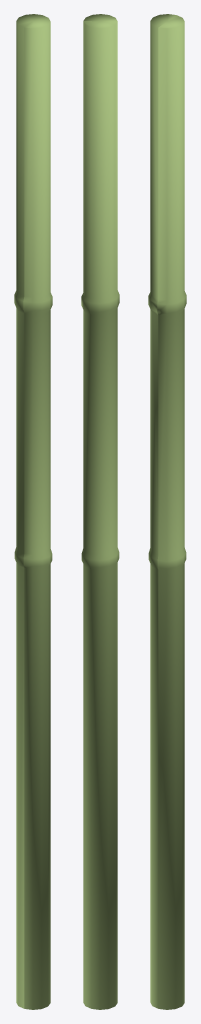
The model's file is Zen_Staff.fbx.
3 renders of one model, left to right at view 1: azimuth 90°, elevation 25°; view 2: azimuth 210°, elevation 25°; view 3: azimuth 270°, elevation 25°, orthographic.
Parts seen in each view (by area): view 1: Zen_Staff; view 2: Zen_Staff; view 3: Zen_Staff.
Part boxes in pixels (x1=…): Zen_Staff: x1=14, y1=14, x2=52, y2=1009; Zen_Staff: x1=81, y1=14, x2=119, y2=1009; Zen_Staff: x1=148, y1=14, x2=186, y2=1009.
Bounding box in the file's own units: 0.3353 × 9.49 × 0.3361.
